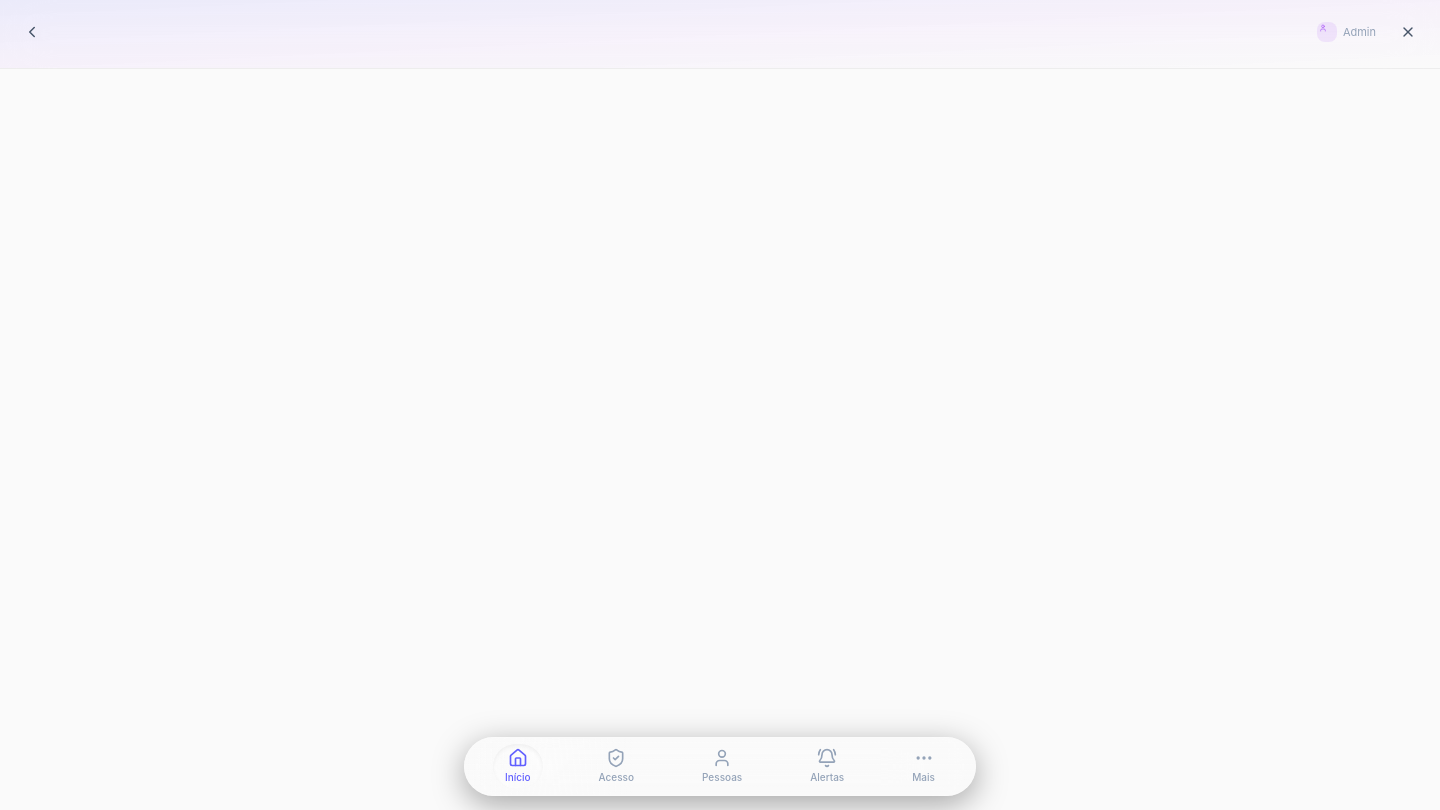
Scenario: AdminLayout › o menu Pessoas lista Usuários e Solicitações
Click the button labelled "Pessoas" at (722, 766), box [690,744,754,789]
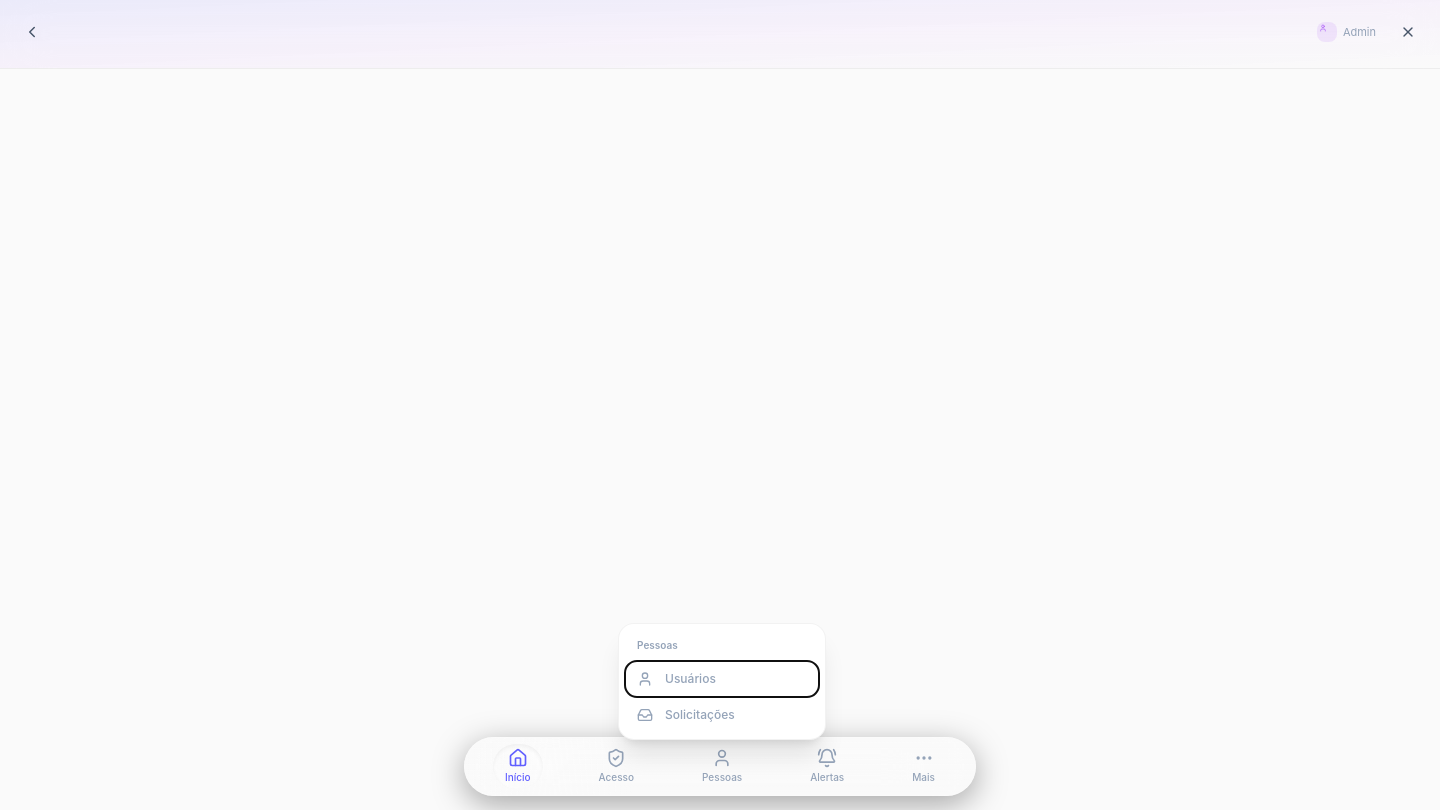
Now the text "Usuários" is shown, box [665,671,716,687]
Now the text "Solicitações" is shown, box [665,707,735,723]
